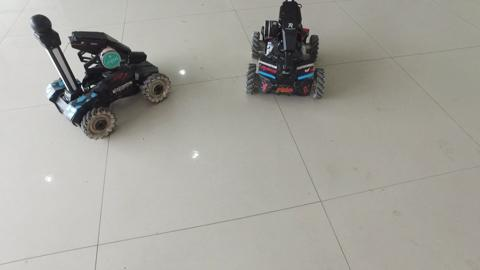chariot: (21, 12, 173, 140)
